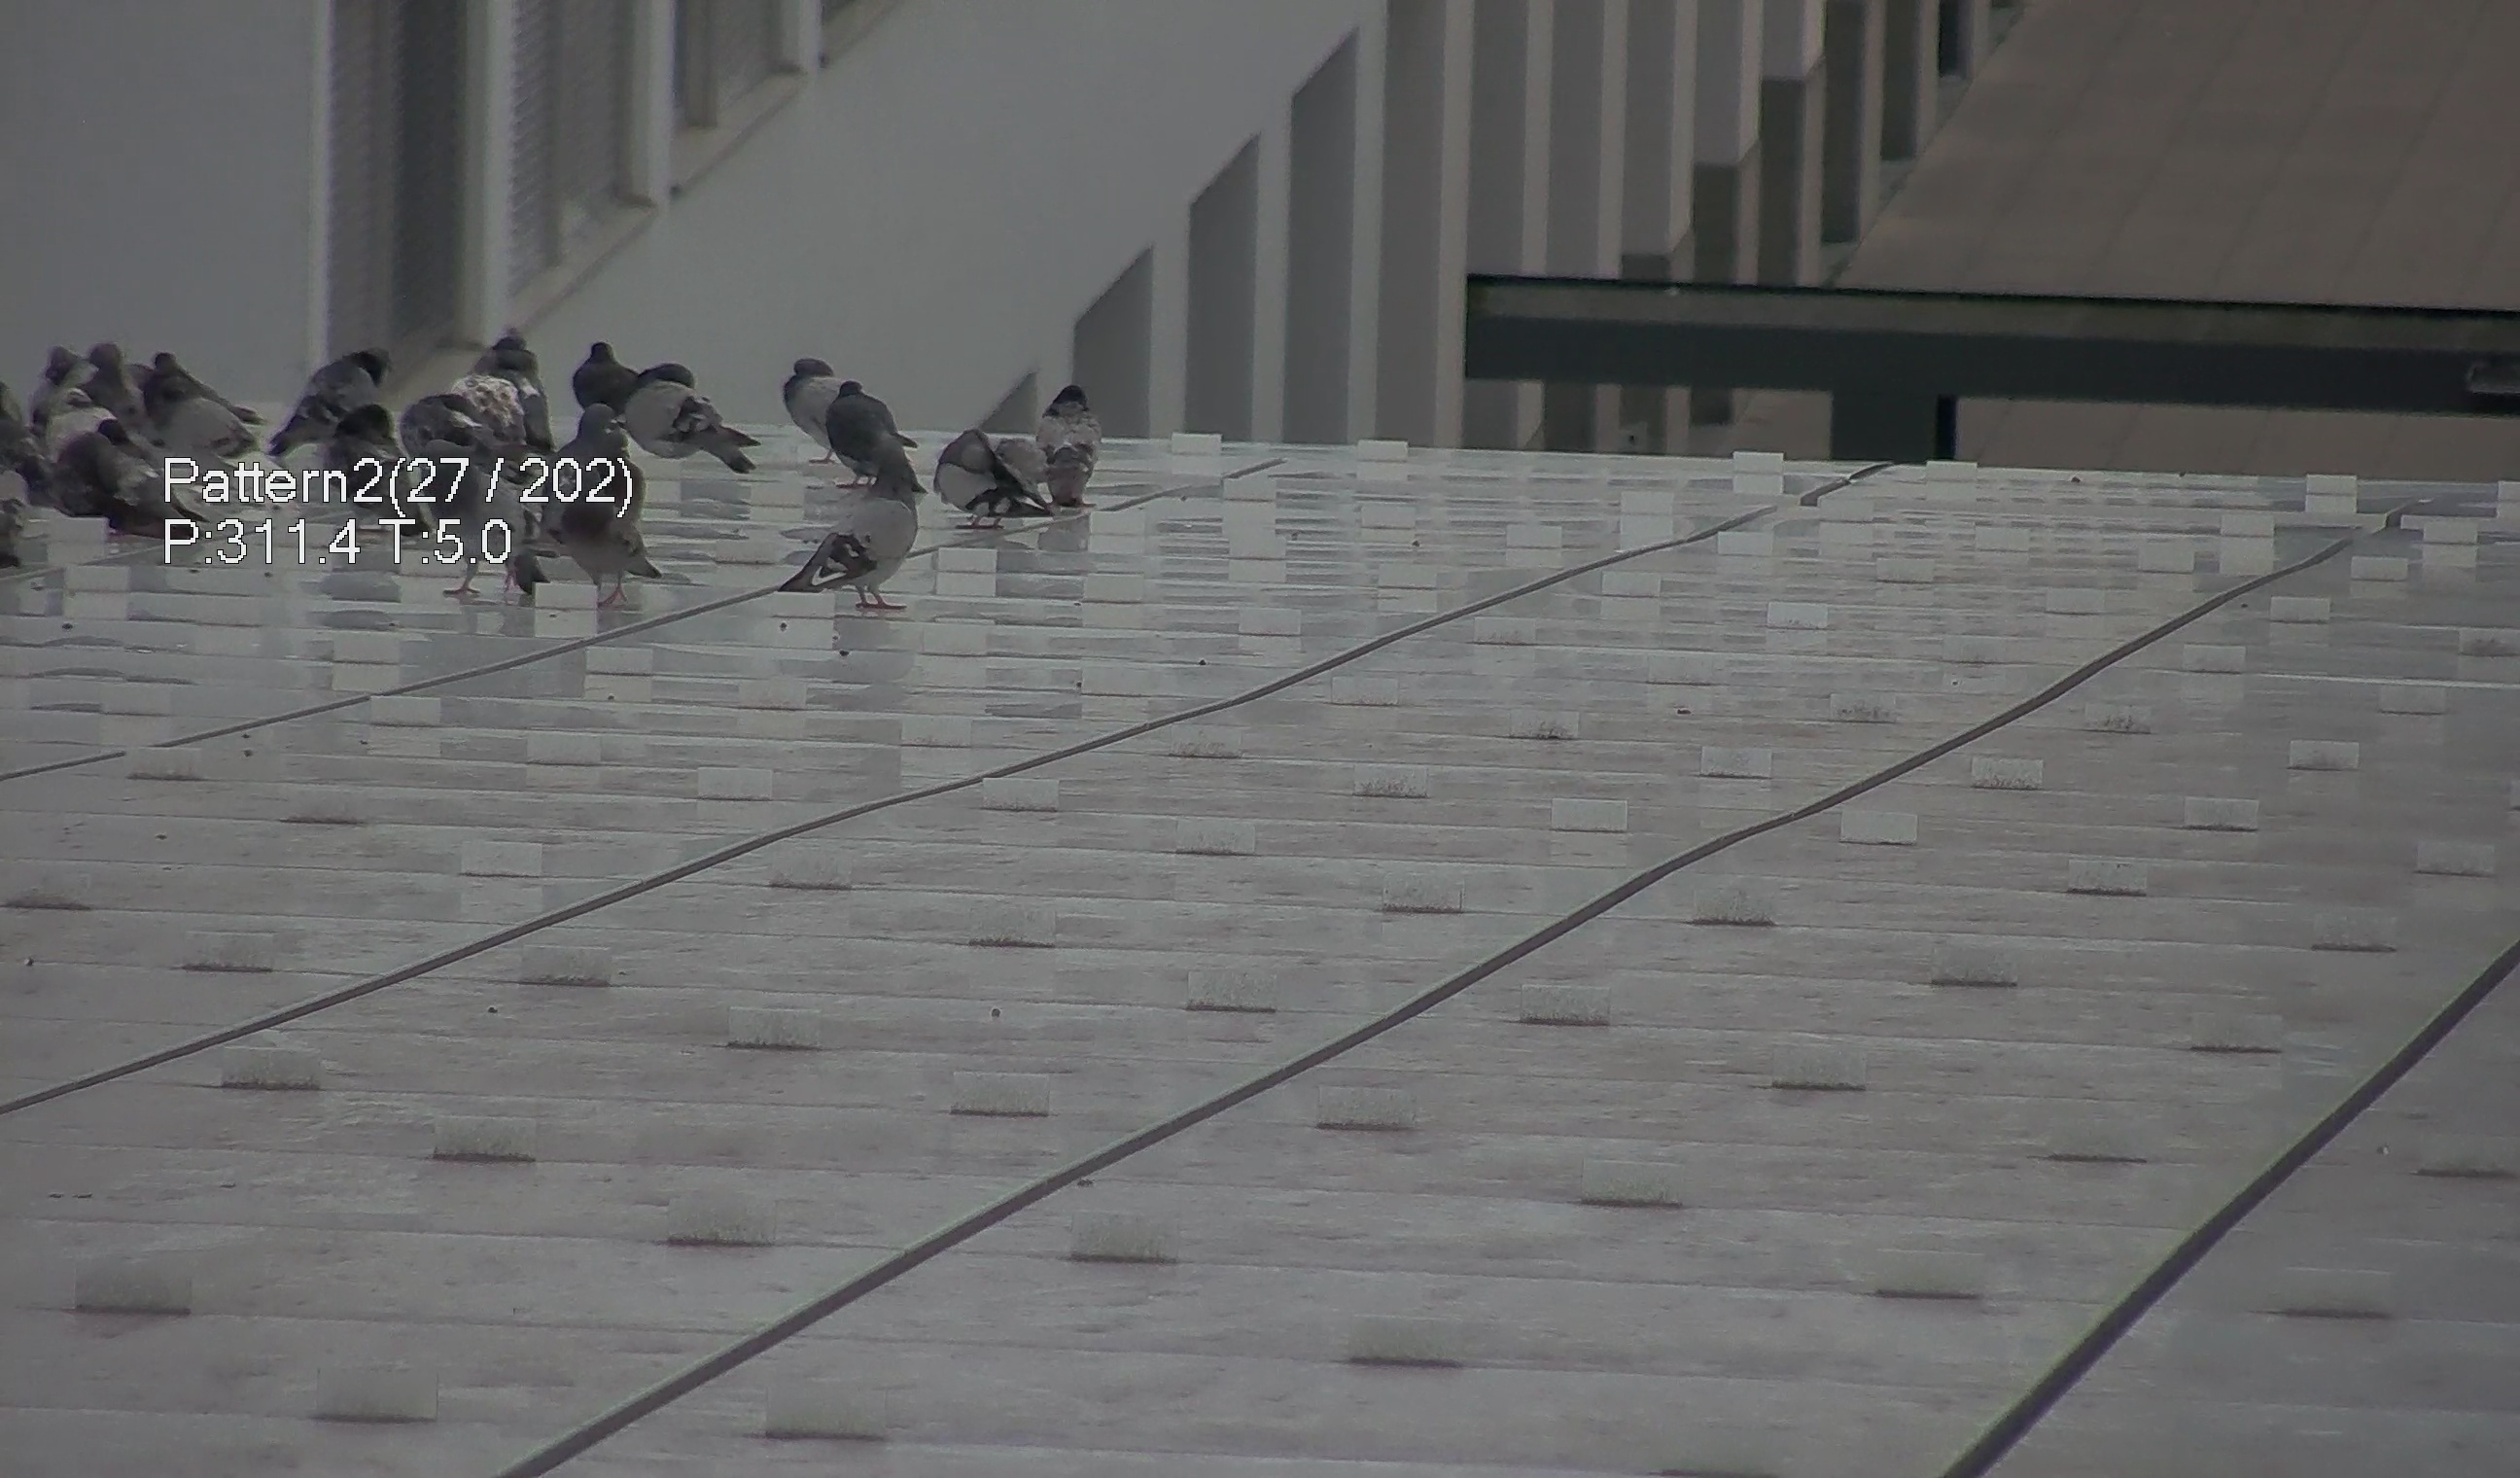Pigeon: (528, 405, 656, 600), (410, 436, 552, 611), (58, 391, 197, 547), (158, 378, 299, 526), (776, 491, 936, 612), (617, 338, 749, 466), (916, 405, 1046, 523), (266, 343, 394, 459), (823, 354, 920, 496), (1025, 369, 1099, 501), (774, 348, 844, 447), (556, 327, 638, 405)
